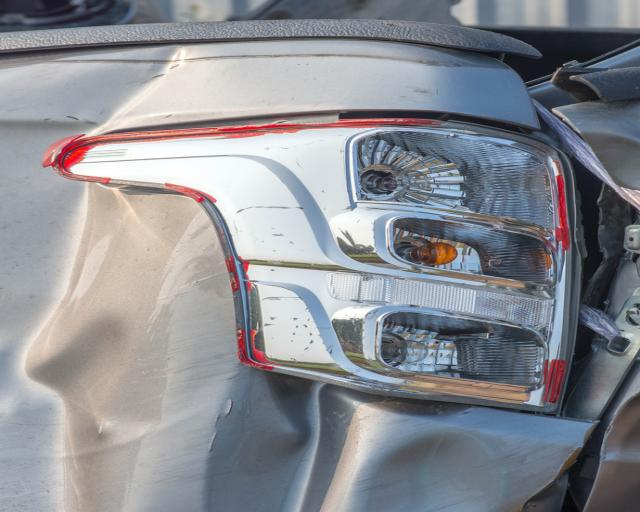dent: (0, 184, 198, 512), (206, 370, 519, 512), (54, 45, 251, 132)
lamp broken: (64, 114, 573, 410)
